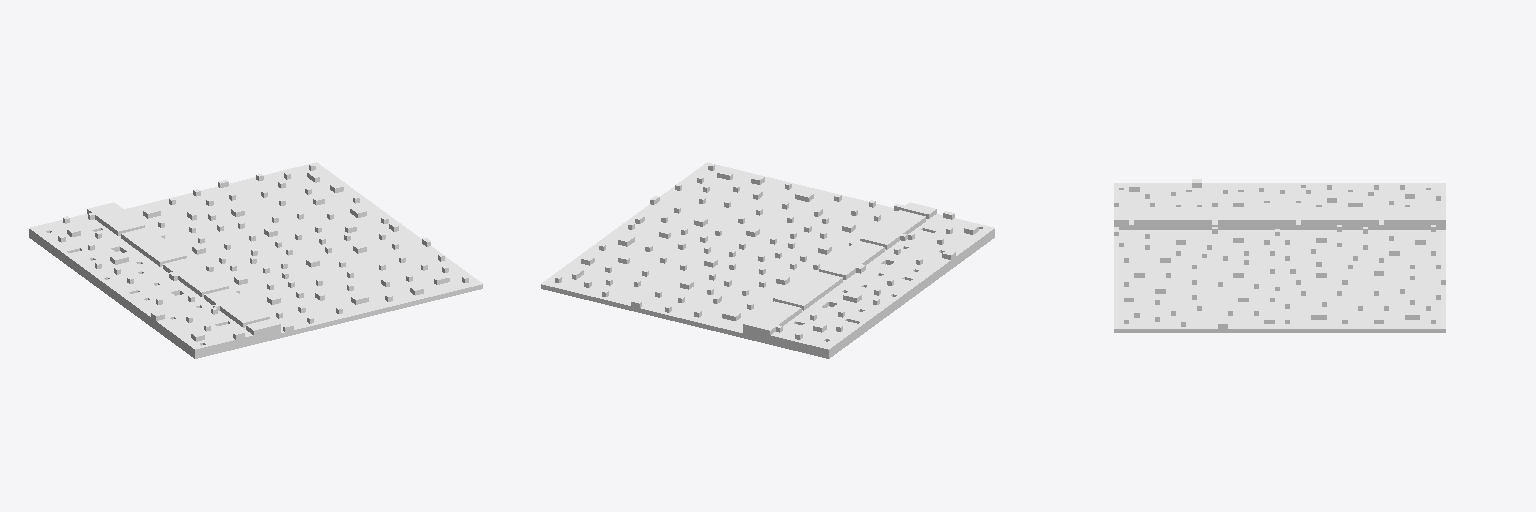
Rendered from EarthPath_2.obj.
3 views of the same model, side by side, from view 1: azimuth 30°, elevation 25°; view 2: azimuth 150°, elevation 25°; view 3: azimuth 270°, elevation 25° (orthographic).
Parts seen in each view (by area): view 1: EarthPath_2; view 2: EarthPath_2; view 3: EarthPath_2.
Boxes of the visible parts, x1=… form: EarthPath_2: x1=29, y1=162, x2=482, y2=358; EarthPath_2: x1=541, y1=162, x2=994, y2=358; EarthPath_2: x1=1114, y1=179, x2=1445, y2=332.
Size of the model in its own units: 1 by 0.0469 by 1.